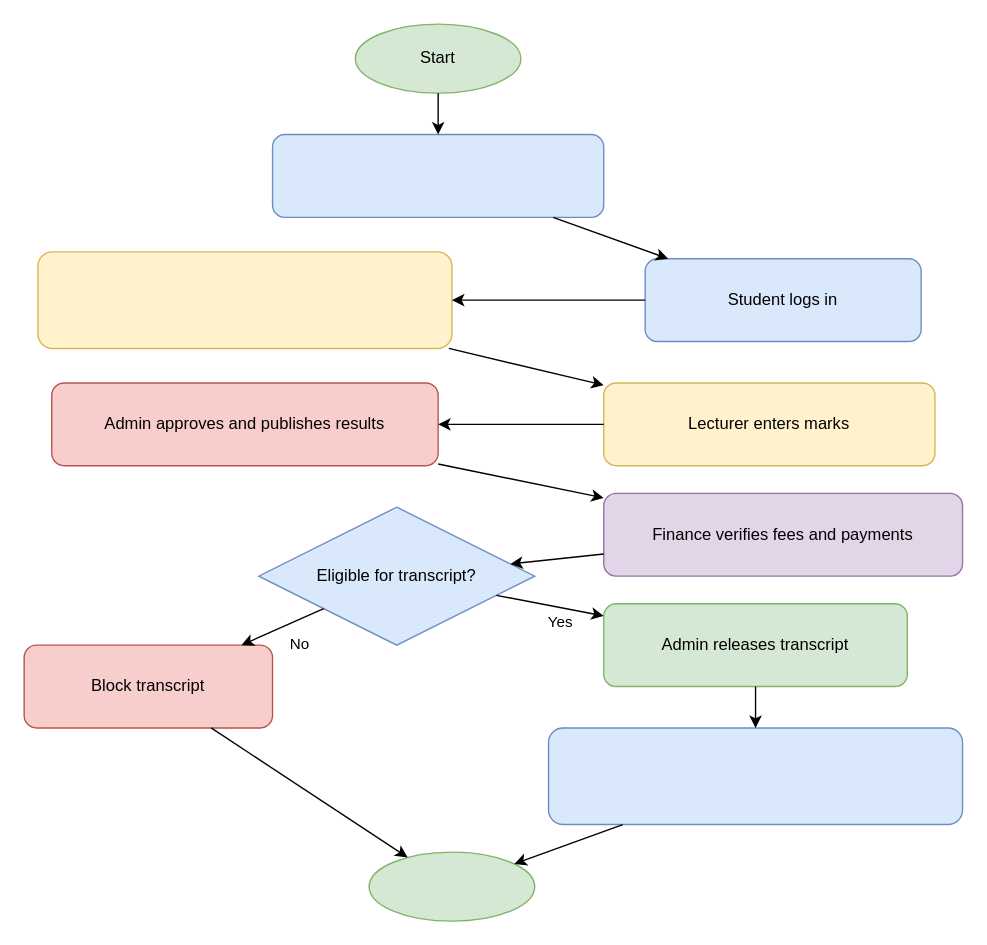
This 987x945 diagram has some shape labels left out. The shapes that lost their labels are listed below. From the top down, each one's box as (x1, y1, x2, y2) in pixels, then its label:
(271, 133, 604, 217): Admin creates account
(37, 250, 452, 348): Student registers for semester and courses
(547, 727, 963, 825): System issues transcript with verification
(368, 851, 535, 921): End
